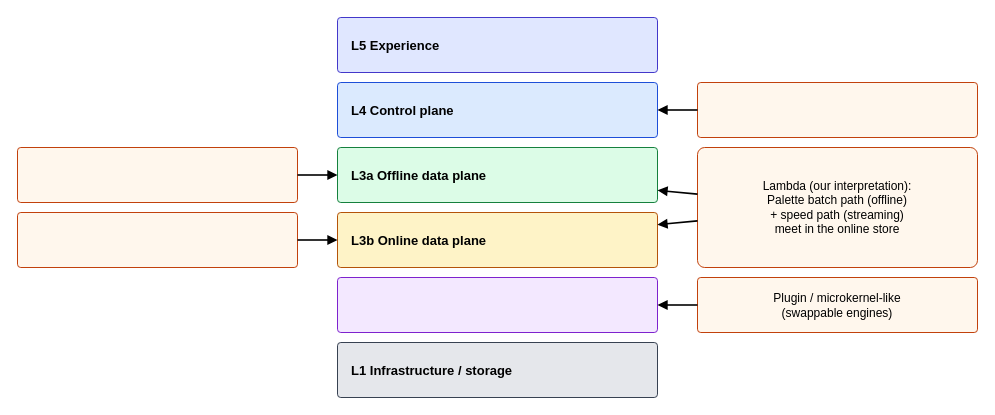
Image size: 995x415. Some labels were removed from this diagram. The shapes that lost their labels are listed below. From the top down, each one's centre as x and y in pixels, then its label:
the point at 837,110: Event-driven reconciliation (Kubernetes operator pattern)
the point at 157,174: Pipe-and-filter (DAG pipelines, chained transformers)
the point at 157,240: Client-server / microservices (RPC prediction service)
the point at 497,304: L2 Plug-and-play components
